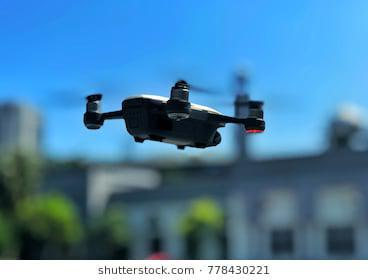drone: (46, 60, 280, 175)
